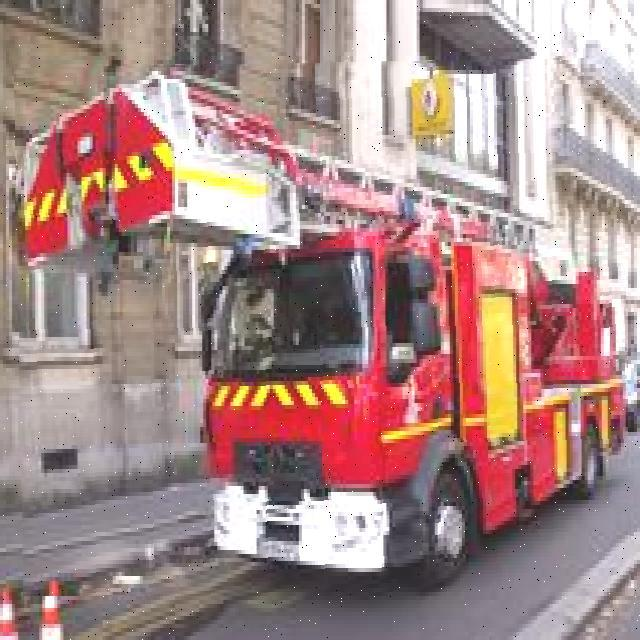pompier: (17, 59, 629, 594)
